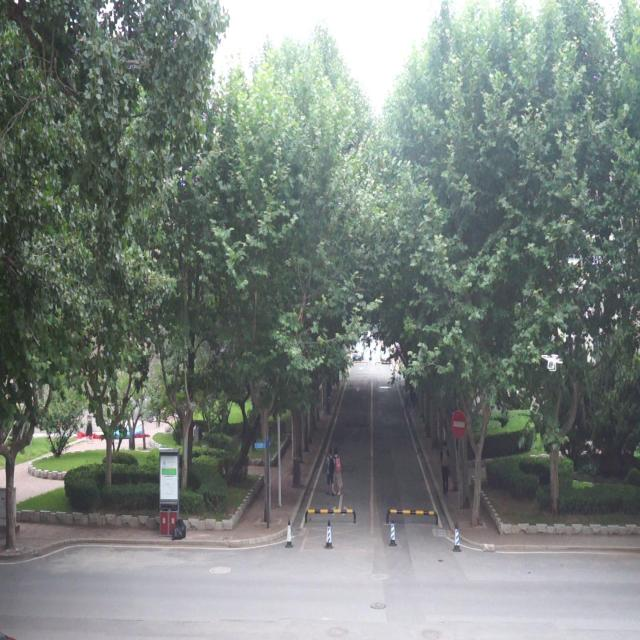drone: (538, 352, 566, 374)
